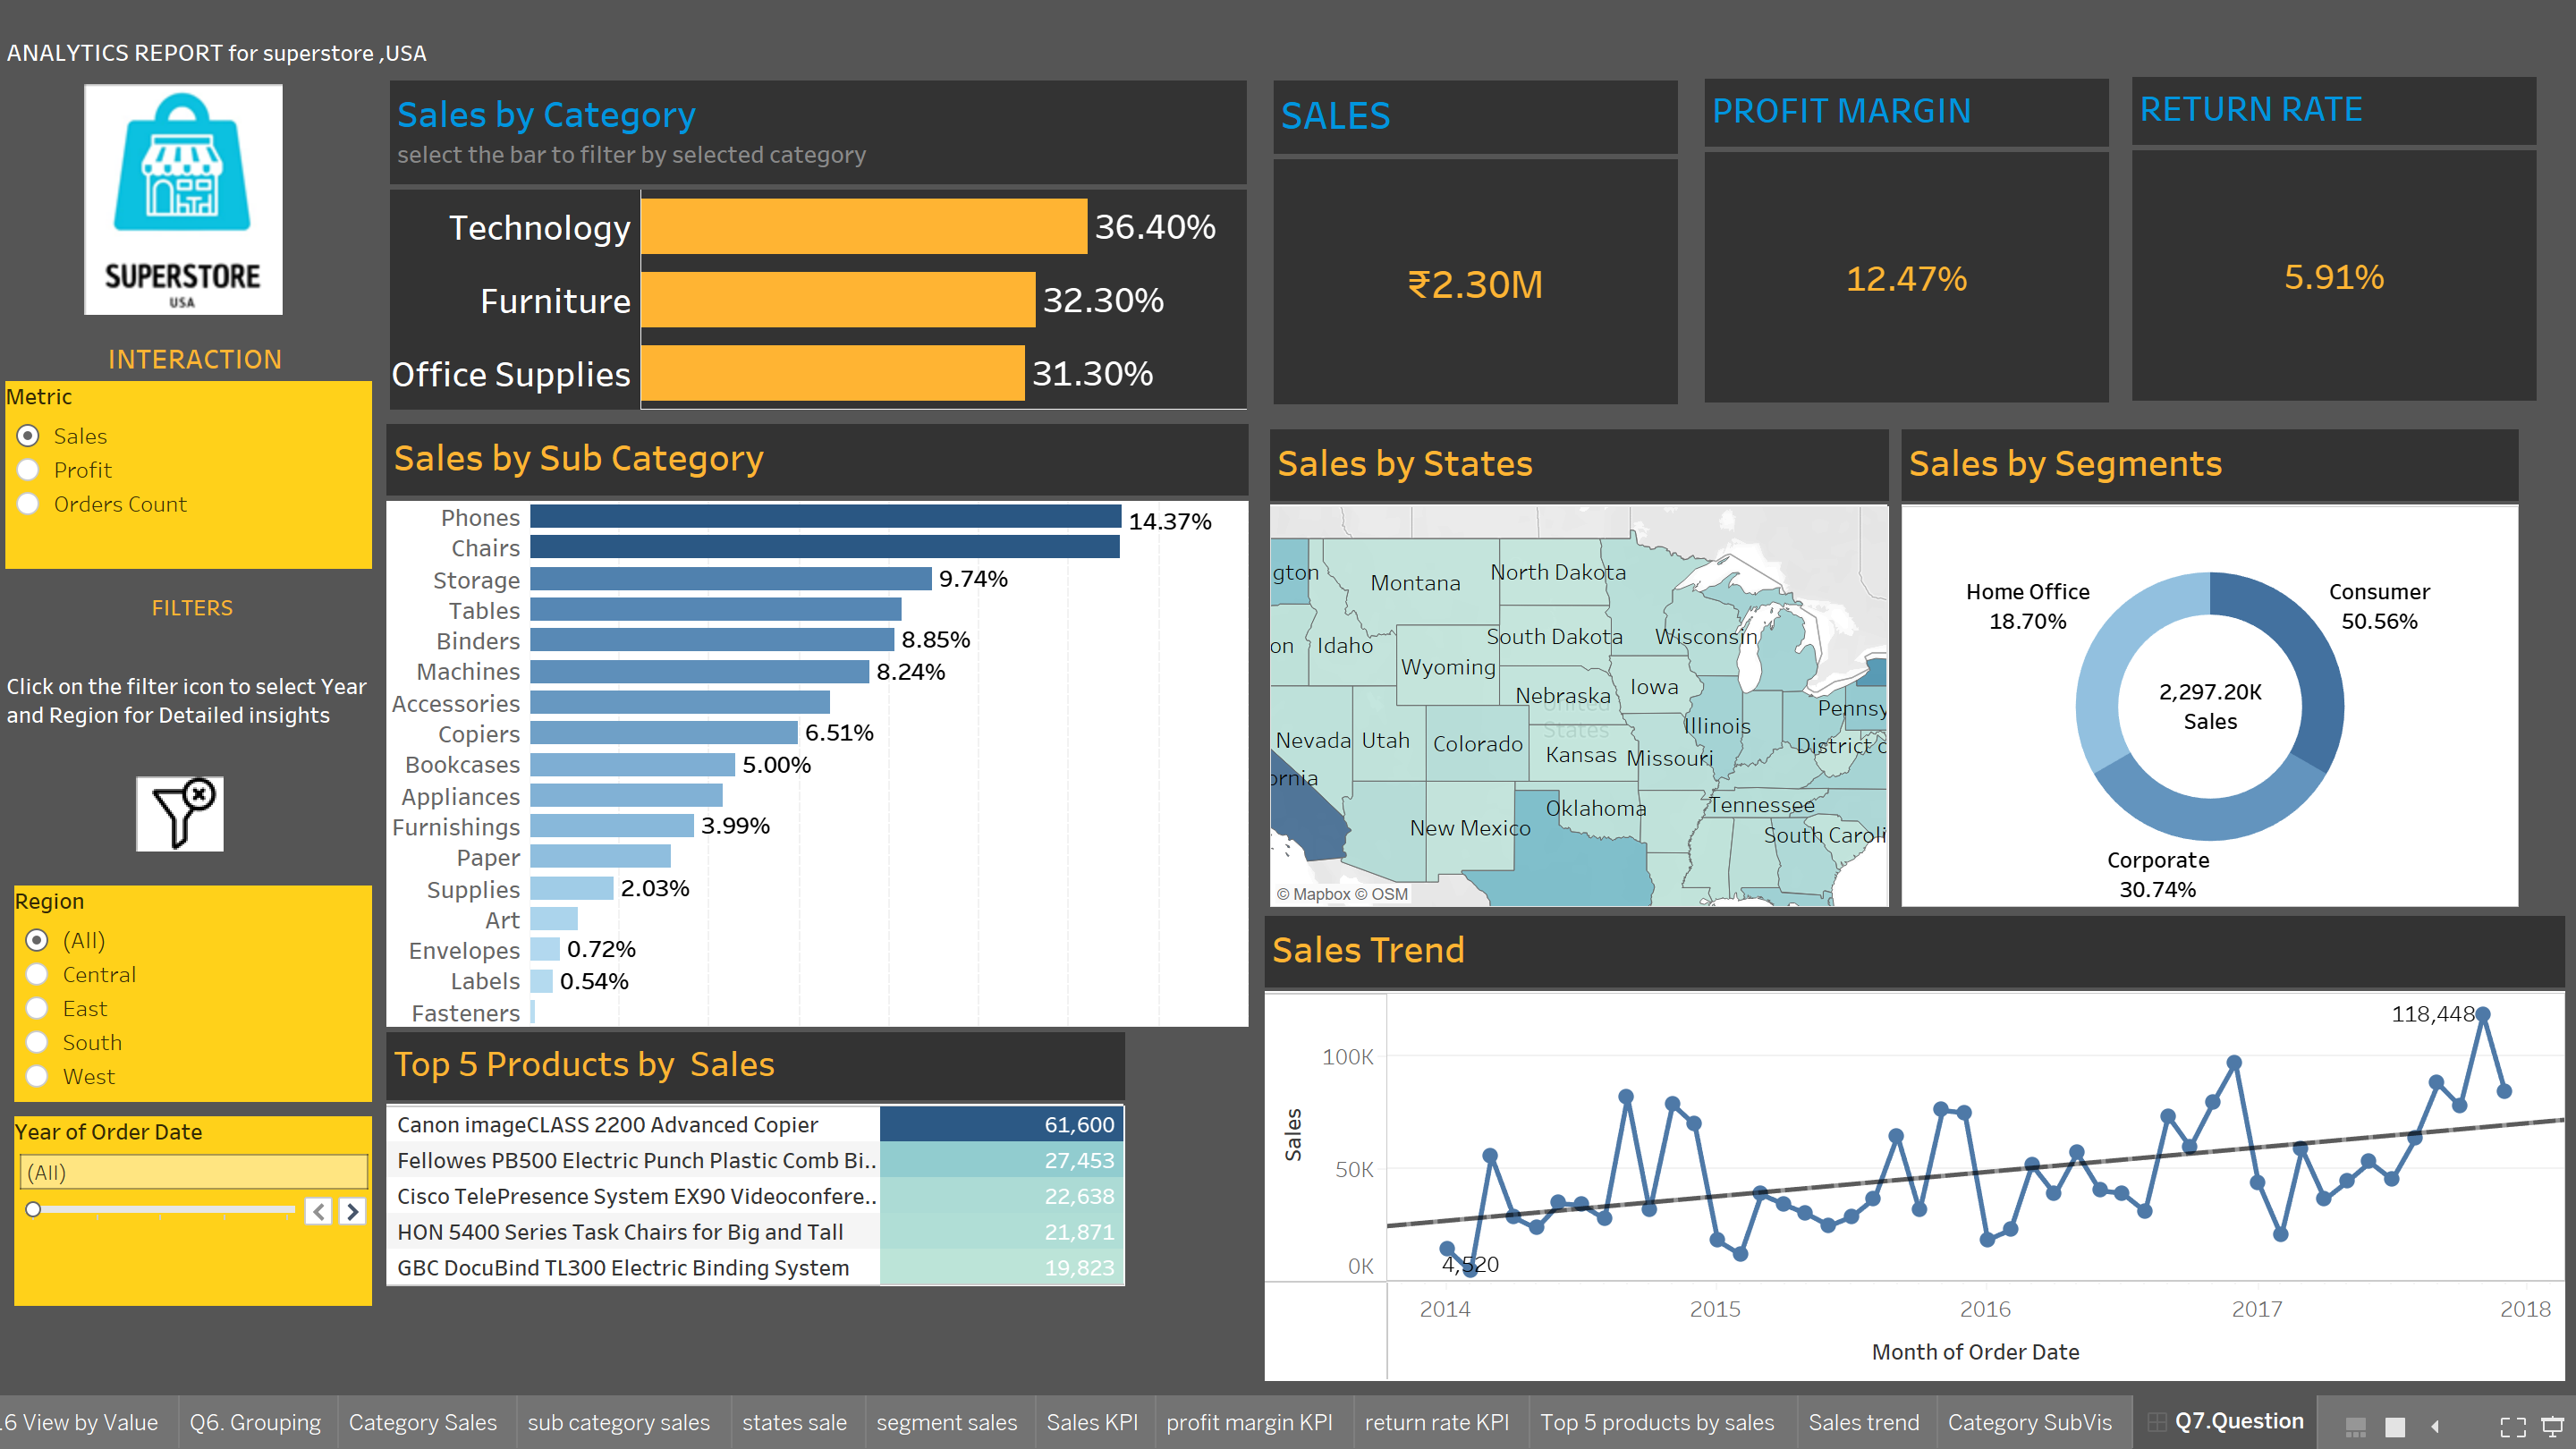

The page's visual inventory and layout, read from the dashboard file:
{"tool":"tableau","page":{"name":"Q7.Question","canvas":[1000,1000],"units":"permille","ordinal":0},"visuals":[{"type":"text","box":[0.8,12,1000,51.2]},{"type":"worksheet","title":"return rate KPI","mark":"Automatic","box":[827.5,54.6,157,232.1]},{"type":"worksheet","title":"profit margin KPI","mark":"Automatic","box":[661.5,56.3,157,232.1]},{"type":"worksheet","title":"Category Sales","mark":"Automatic","rows":["Category"],"cols":["Calculation_754634473113387011"],"box":[151.3,58,332.8,235.5]},{"type":"worksheet","title":"Sales KPI","mark":"Automatic","box":[494.7,58,157,232.1]},{"type":"image","param":"Image/Screenshot 2024-09-11 185404.png","box":[8.8,59.7,124.4,165.5]},{"type":"text","box":[33.7,230.4,83.5,51.2]},{"type":"parameter","param":"[Parameters].[Parameter 2]","box":[2.4,273,142.5,134.8]},{"type":"worksheet","title":"sub category sales","mark":"Automatic","rows":["Sub-Category"],"cols":["Calculation_754634473113387011"],"box":[149.7,303.8,335.2,431.7]},{"type":"worksheet","title":"states sale","mark":"Automatic","box":[493.1,307.2,240,343]},{"type":"worksheet","title":"segment sales","mark":"Pie","rows":["Calculation_214483989982511104","Calculation_214483989982511104"],"box":[738,307.2,240,343]},{"type":"text","box":[0,409.6,149.3,51.2]},{"type":"text","box":[0.8,450.5,148.9,104.1]},{"type":"dashboard-object","box":[52.9,556.3,34.2,54.6]},{"type":"filter","title":"sub category sales","param":"[federated.1dbyftt1ytv74c1eef5cy0zrqybl].[none:Region:nk]","box":[2.4,629.7,144.8,203.5]},{"type":"worksheet","title":"Sales trend","mark":"Automatic","rows":["Sales","Sales"],"cols":["Order Date"],"box":[490.6,657,505.3,332.8]},{"type":"worksheet","title":"Top 5 products by sales","mark":"Square","rows":["Product Name"],"box":[149.7,740.4,339.3,259.6]}]}

Visuals, with their boxes on the dashboard's canvas, which has no fixed pixel size, in thousandths of its width and height (x1, y1, x2, y2). These are canvas units, not pixel positions in the 2576x1449 screenshot, which may show the page scaled, cropped or inside an application window:
text: rect(1, 12, 1001, 63)
"return rate KPI" worksheet: rect(828, 55, 984, 287)
"profit margin KPI" worksheet: rect(662, 56, 818, 288)
"Category Sales" worksheet: rect(151, 58, 484, 294)
"Sales KPI" worksheet: rect(495, 58, 652, 290)
image: rect(9, 60, 133, 225)
text: rect(34, 230, 117, 282)
parameter: rect(2, 273, 145, 408)
"sub category sales" worksheet: rect(150, 304, 485, 736)
"states sale" worksheet: rect(493, 307, 733, 650)
"segment sales" worksheet (Pie marks): rect(738, 307, 978, 650)
text: rect(0, 410, 149, 461)
text: rect(1, 450, 150, 555)
dashboard-object: rect(53, 556, 87, 611)
"sub category sales" filter: rect(2, 630, 147, 833)
"Sales trend" worksheet: rect(491, 657, 996, 990)
"Top 5 products by sales" worksheet (Square marks): rect(150, 740, 489, 1000)
